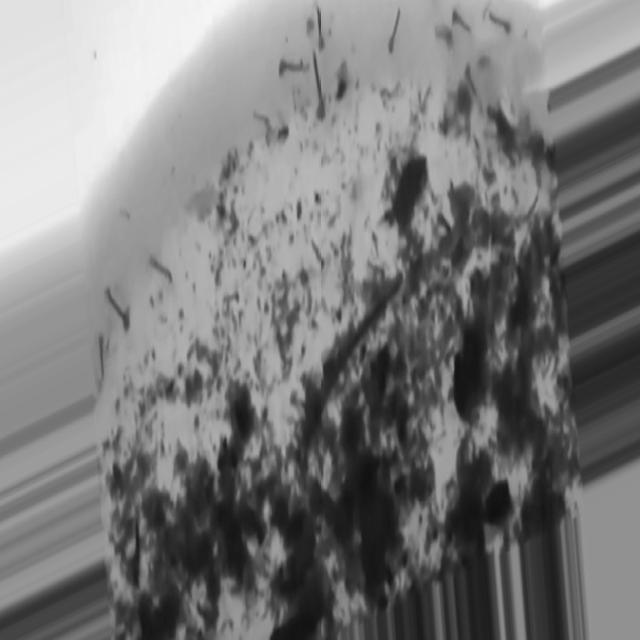larvas: (106, 287, 130, 332), (311, 56, 328, 119), (386, 7, 403, 56), (151, 255, 175, 284), (252, 112, 272, 141), (313, 8, 327, 48), (278, 58, 306, 78), (450, 9, 472, 34), (491, 9, 512, 34), (434, 25, 454, 50), (312, 240, 326, 269), (421, 82, 432, 114), (465, 66, 478, 93), (99, 331, 104, 388)
